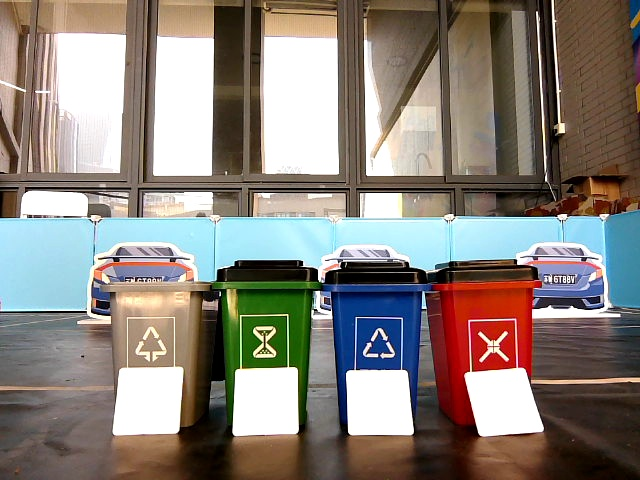blue_close: (331, 261, 418, 366)
green_close: (225, 259, 308, 362)
grey_open: (108, 285, 204, 367)
red_close: (437, 260, 530, 364)
